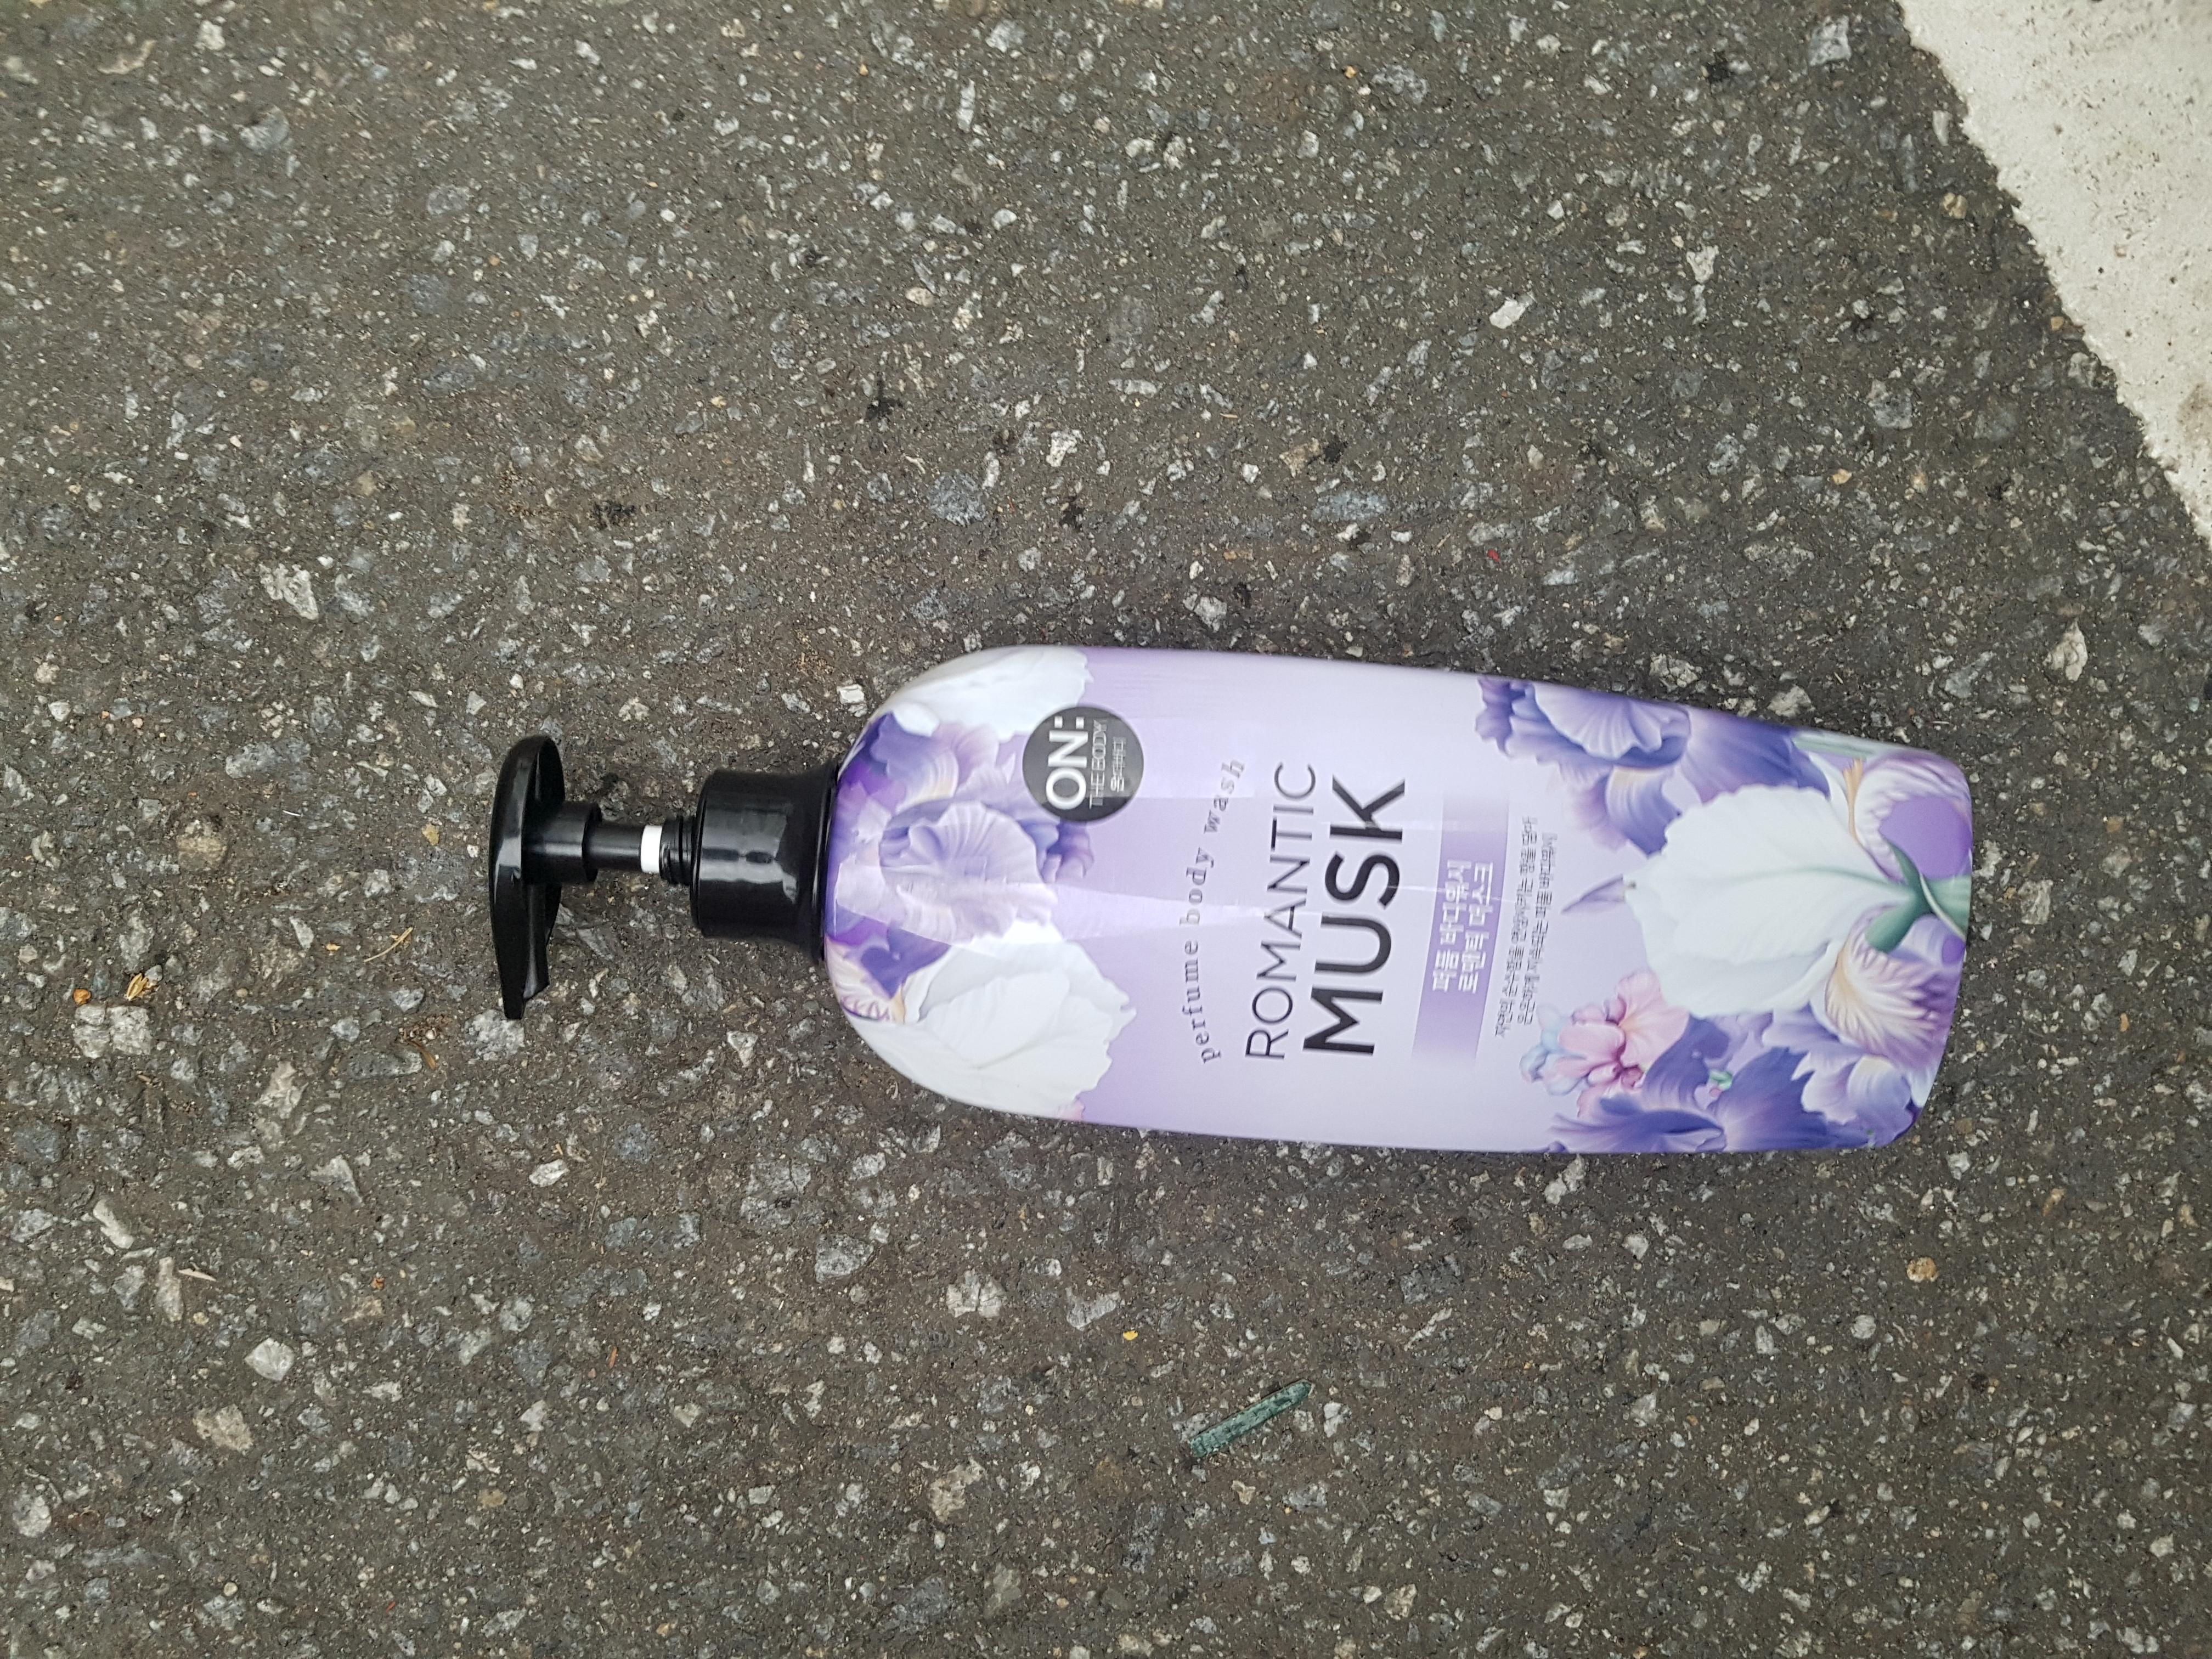bottle: (381, 612, 2006, 1117)
